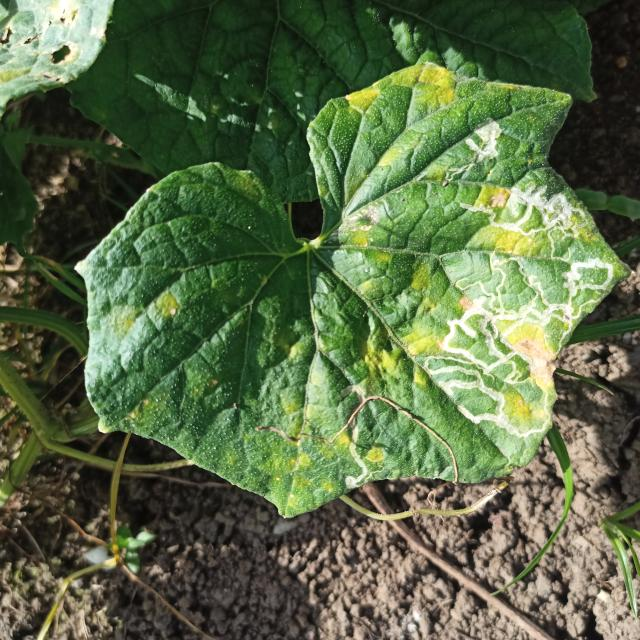disease_cucumber: (336, 168, 610, 430), (267, 344, 399, 502), (338, 61, 511, 168), (117, 288, 180, 336)
